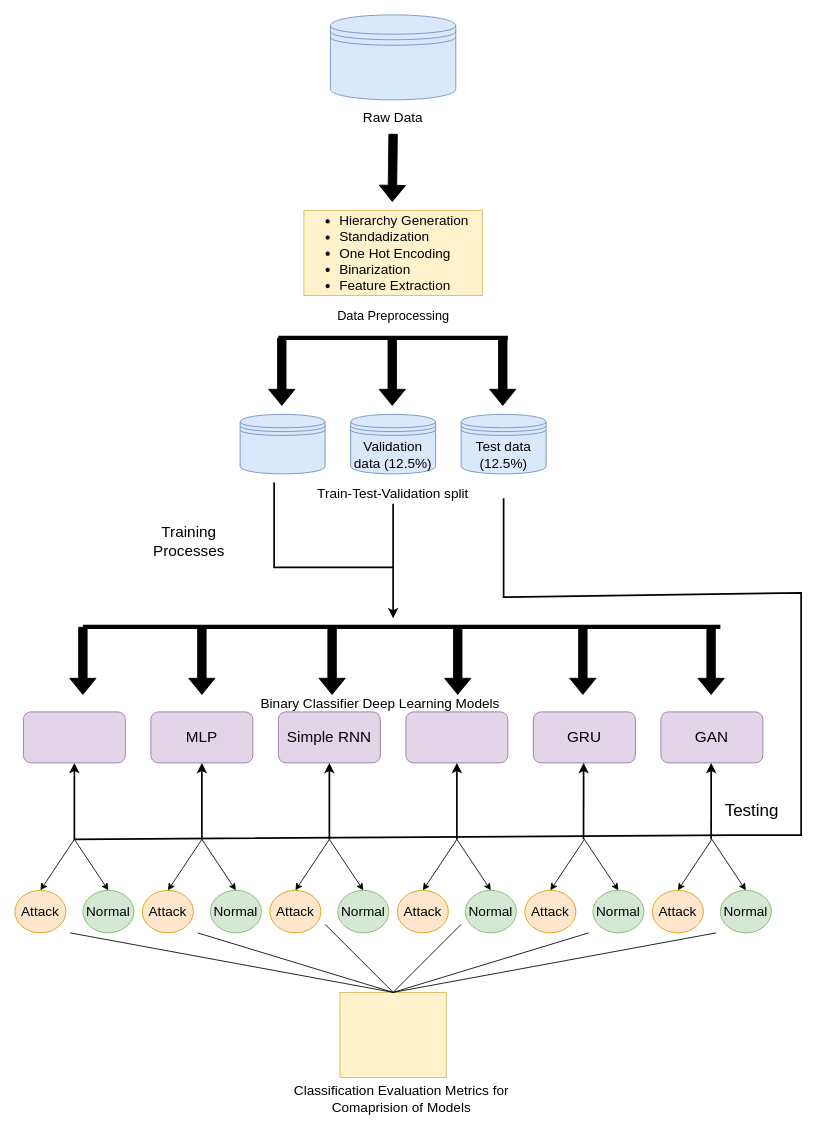
The diagram is 824 pixels wide and 1130 high, and some of its shapes have lost their labels. Here are the shapes that lost their labels. From the top down, the box of each, then its label:
(330, 14, 456, 100): NSL KDD Dataset (41+2 lables) (1Lakh+ rows)
(239, 414, 325, 474): Train data (75%)
(23, 711, 125, 763): 1D CNN
(405, 711, 508, 763): LSTM
(339, 992, 446, 1077): Accuracy Precision Recall Specificity F1 score
